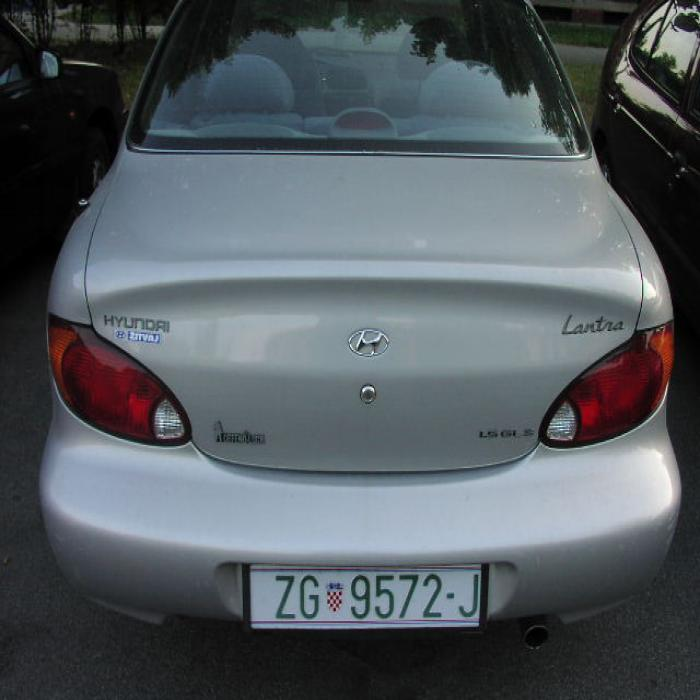number_plate: (248, 567, 482, 623)
